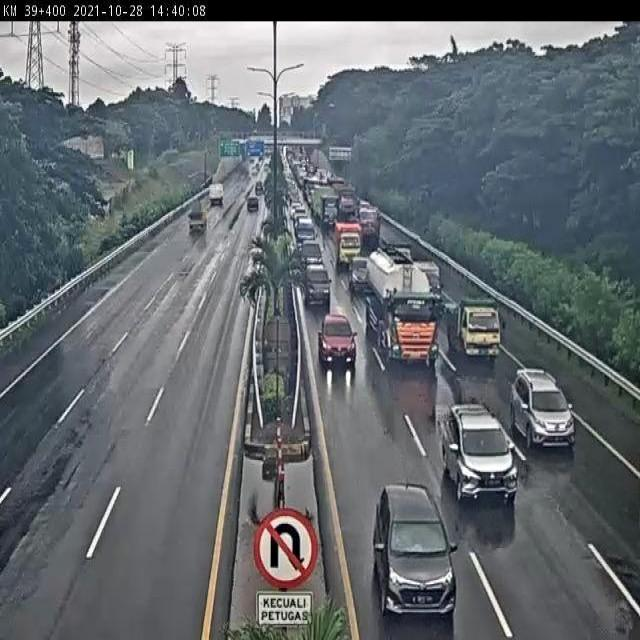car: (372, 484, 458, 617), (442, 402, 518, 502), (511, 367, 574, 448), (316, 308, 359, 367), (347, 253, 375, 291), (303, 264, 330, 303), (299, 237, 324, 268)
small truck: (184, 200, 207, 233)
truck-m-: (444, 298, 502, 358), (335, 220, 363, 265)
truck-xl-: (367, 249, 442, 367)
